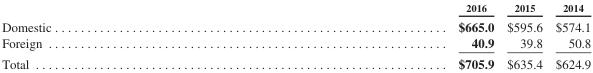table: (1, 1, 590, 70)
table column: (1, 1, 254, 70), (254, 1, 499, 70), (499, 1, 548, 70), (548, 1, 590, 70)
table column header: (1, 1, 590, 16)
table row: (1, 16, 590, 34), (1, 34, 590, 52), (1, 52, 590, 70), (1, 1, 590, 16)
